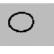no answer: (7, 11, 37, 34)
